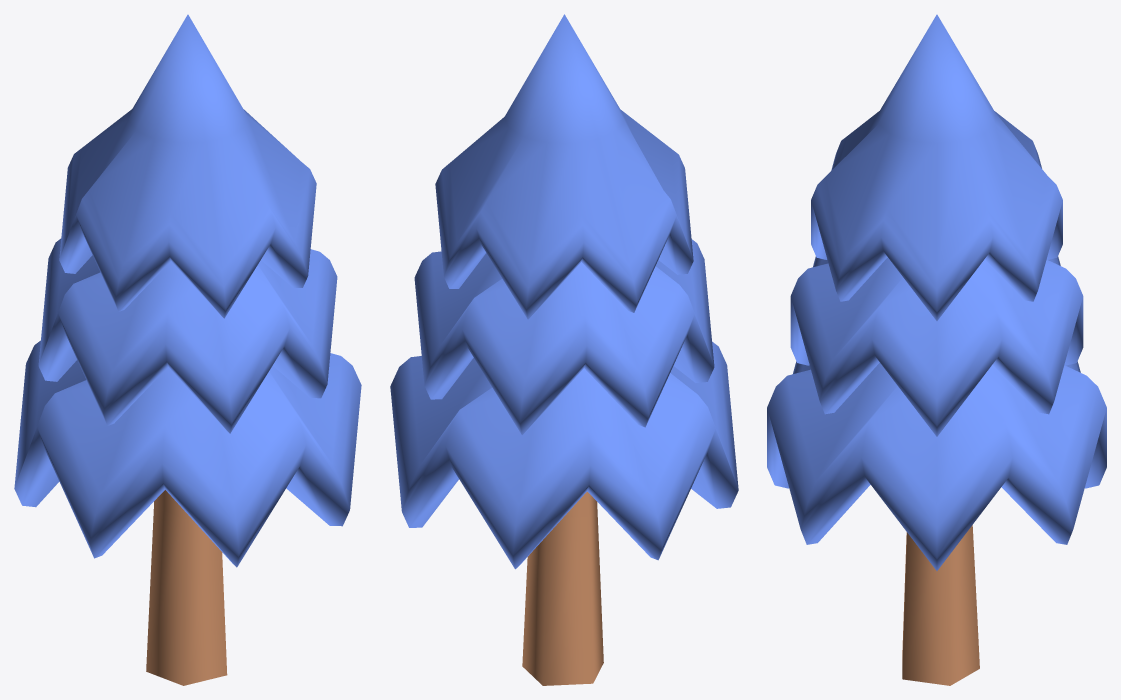
Rendered from Tree_6.fbx.
3 views of the same model, side by side, from view 1: azimuth 30°, elevation 25°; view 2: azimuth 150°, elevation 25°; view 3: azimuth 270°, elevation 25° (orthographic).
Parts seen in each view (by area): view 1: pCylinder10, pCylinder12, pCylinder11, polySurface163; view 2: pCylinder10, pCylinder12, pCylinder11, polySurface163; view 3: pCylinder10, pCylinder12, pCylinder11, polySurface163.
Boxes of the visible parts, x1=… form: pCylinder10: x1=59, y1=14, x2=316, y2=318; pCylinder12: x1=14, y1=340, x2=361, y2=567; pCylinder11: x1=38, y1=238, x2=337, y2=433; polySurface163: x1=146, y1=507, x2=227, y2=685; pCylinder10: x1=435, y1=14, x2=693, y2=319; pCylinder12: x1=390, y1=341, x2=738, y2=569; pCylinder11: x1=414, y1=239, x2=714, y2=434; polySurface163: x1=522, y1=501, x2=603, y2=685; pCylinder10: x1=811, y1=14, x2=1062, y2=320; pCylinder12: x1=767, y1=361, x2=1106, y2=570; pCylinder11: x1=790, y1=256, x2=1083, y2=436; polySurface163: x1=902, y1=525, x2=979, y2=685.
Size of the model in its own units: 16.51 by 34.23 by 16.1.
